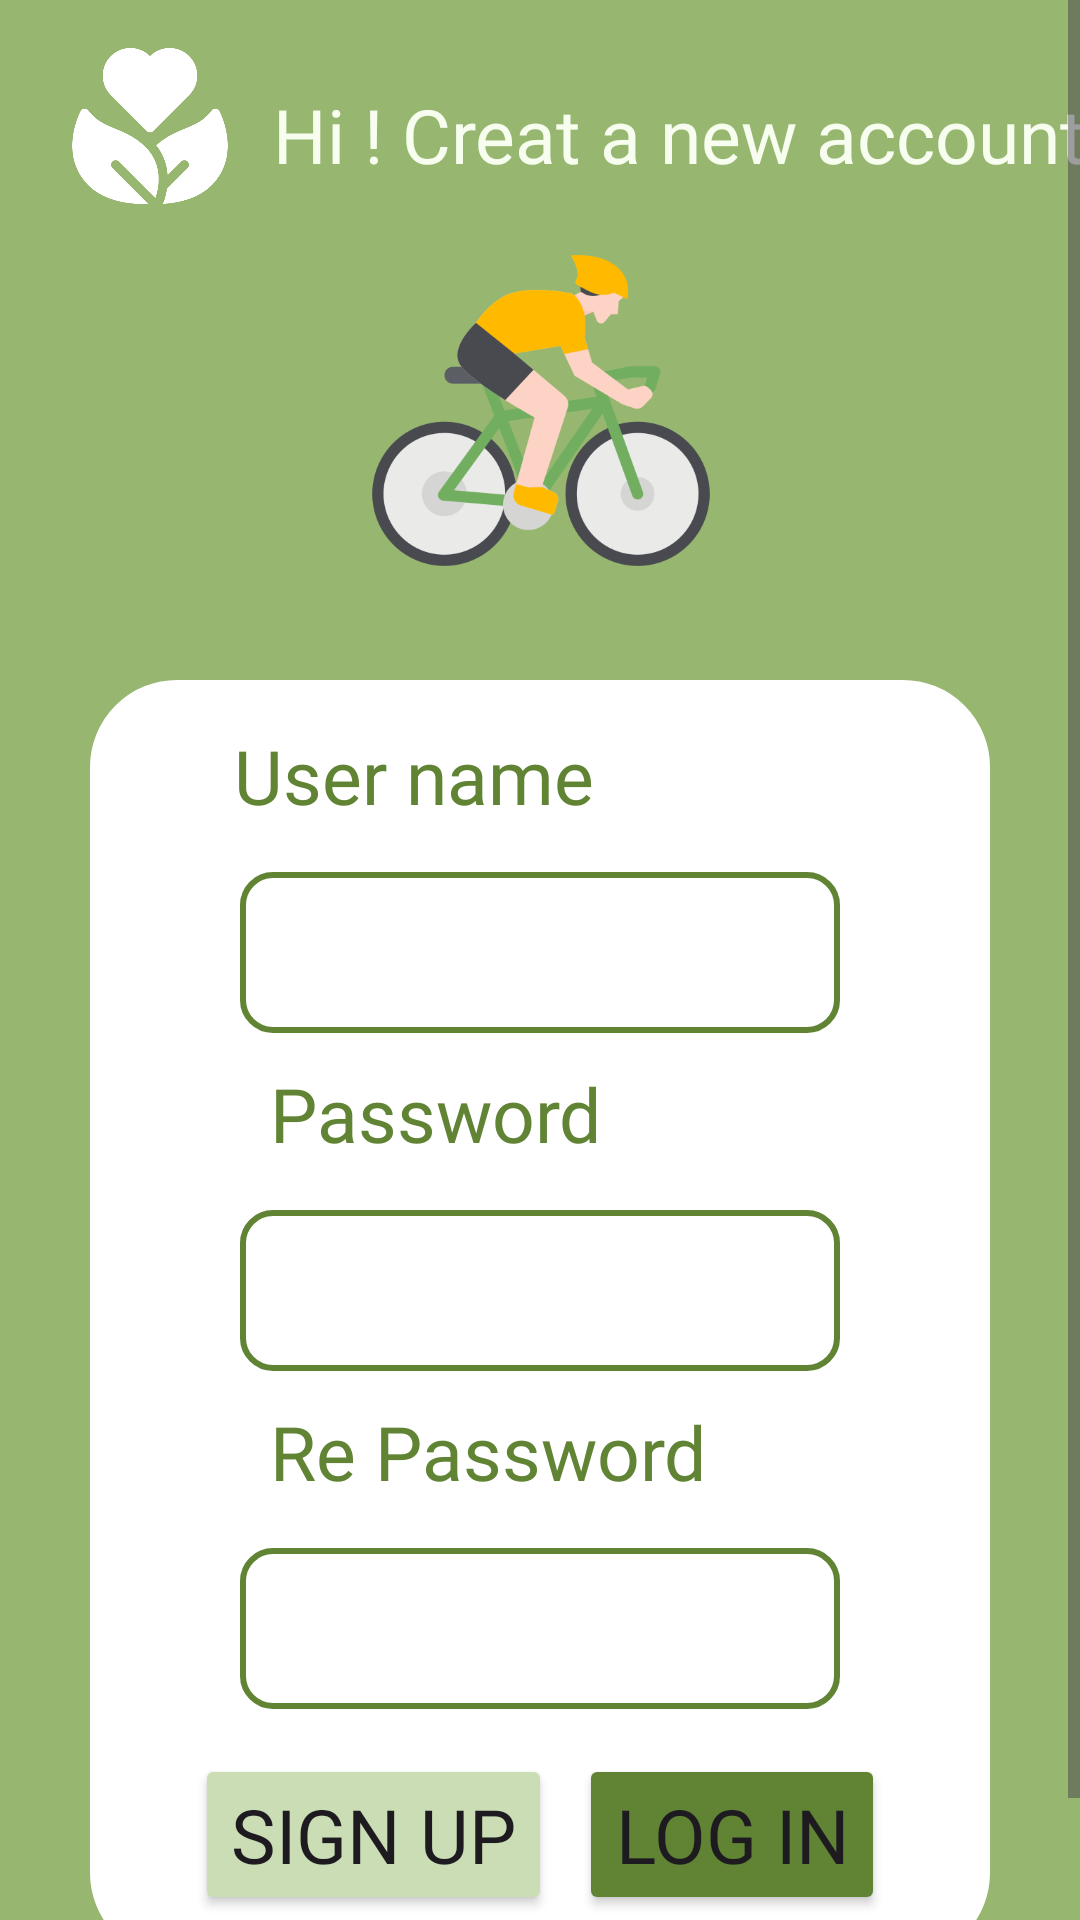

Where icons sit on this 1080x1920 app screen, as box(x1, y1, x2, y2):
cycling: box(372, 255, 710, 566)
organic: box(72, 48, 228, 204)
